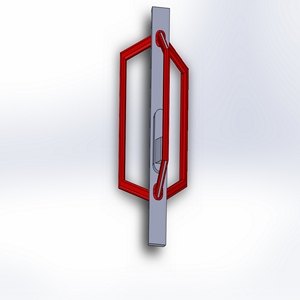submarine: (109, 1, 215, 265)
